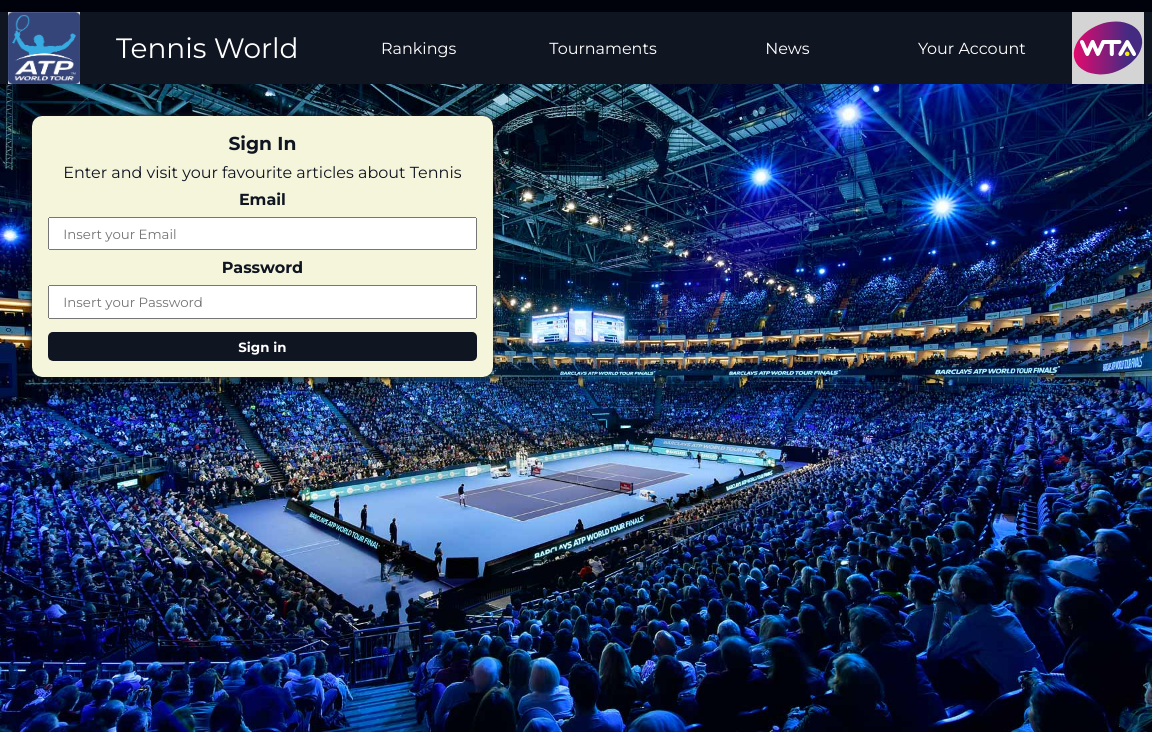
Scenario: Login › Failed login
Step 1. Type "someemail@gmail.com" into the field with placeholder "Insert your Email" → (263, 234), box [48, 217, 477, 250]
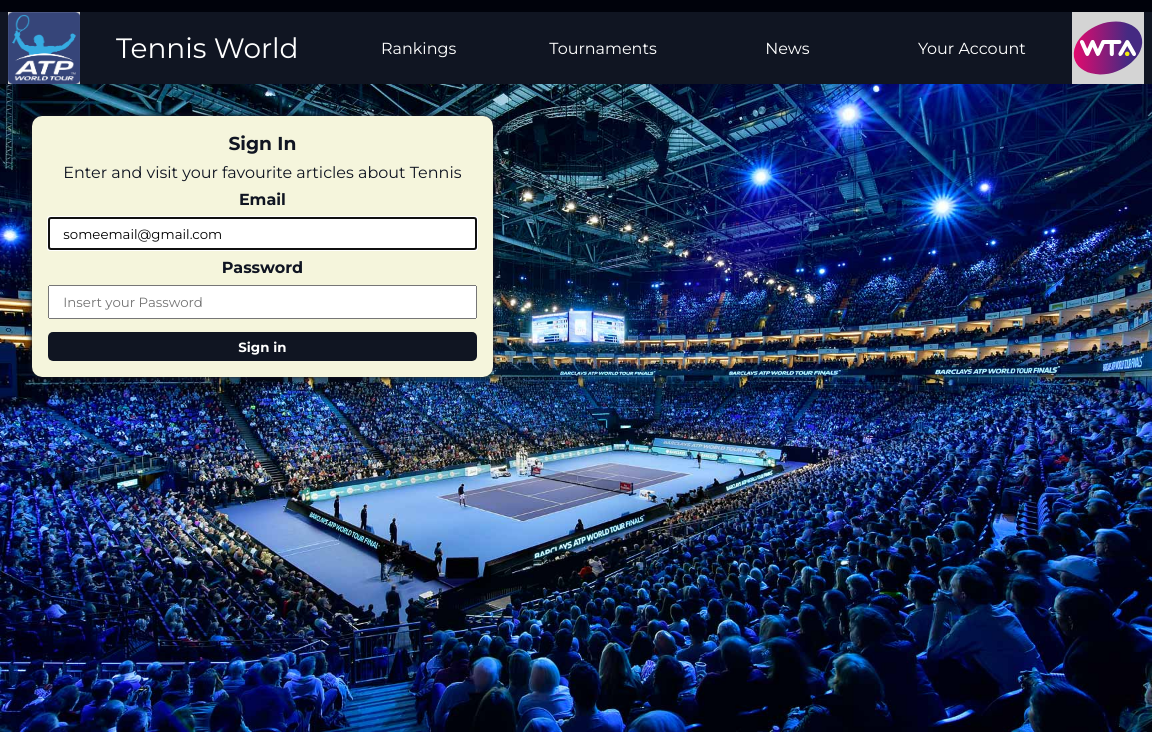
Step 2. Type "password" into the password field with placeholder "Insert your Password" → (263, 302), box [48, 285, 477, 318]
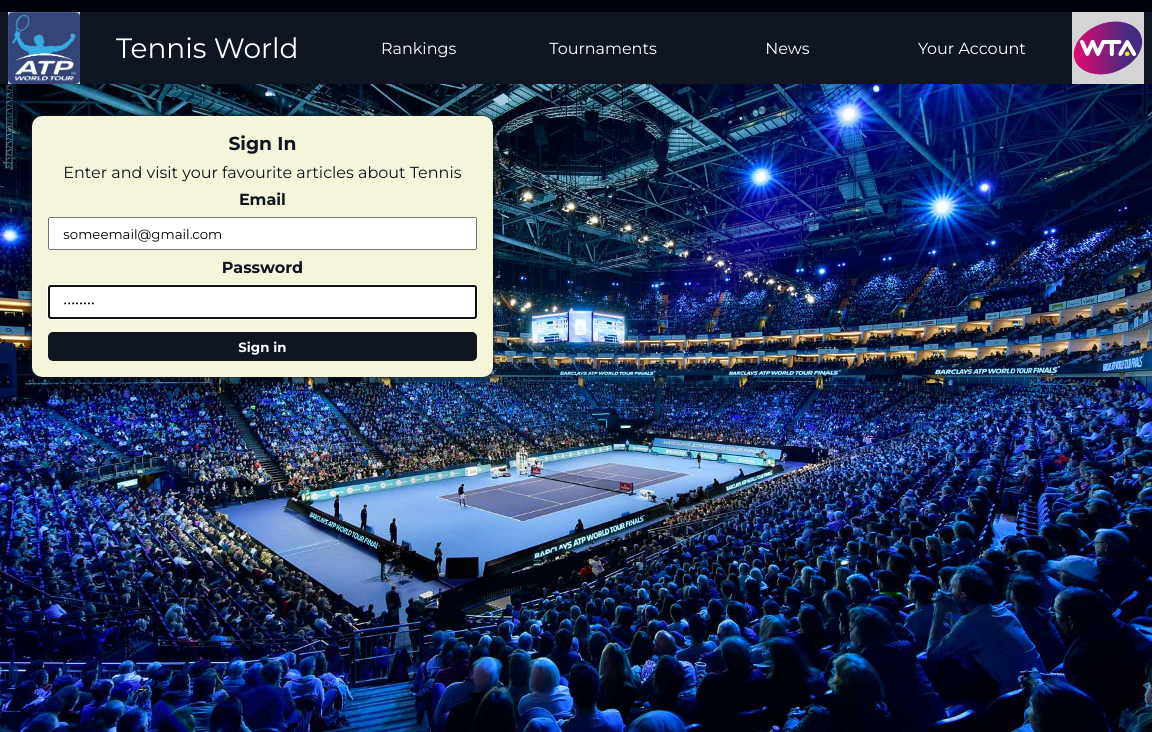
Step 3. Click the button "Sign in" → (263, 347), box [48, 332, 477, 361]
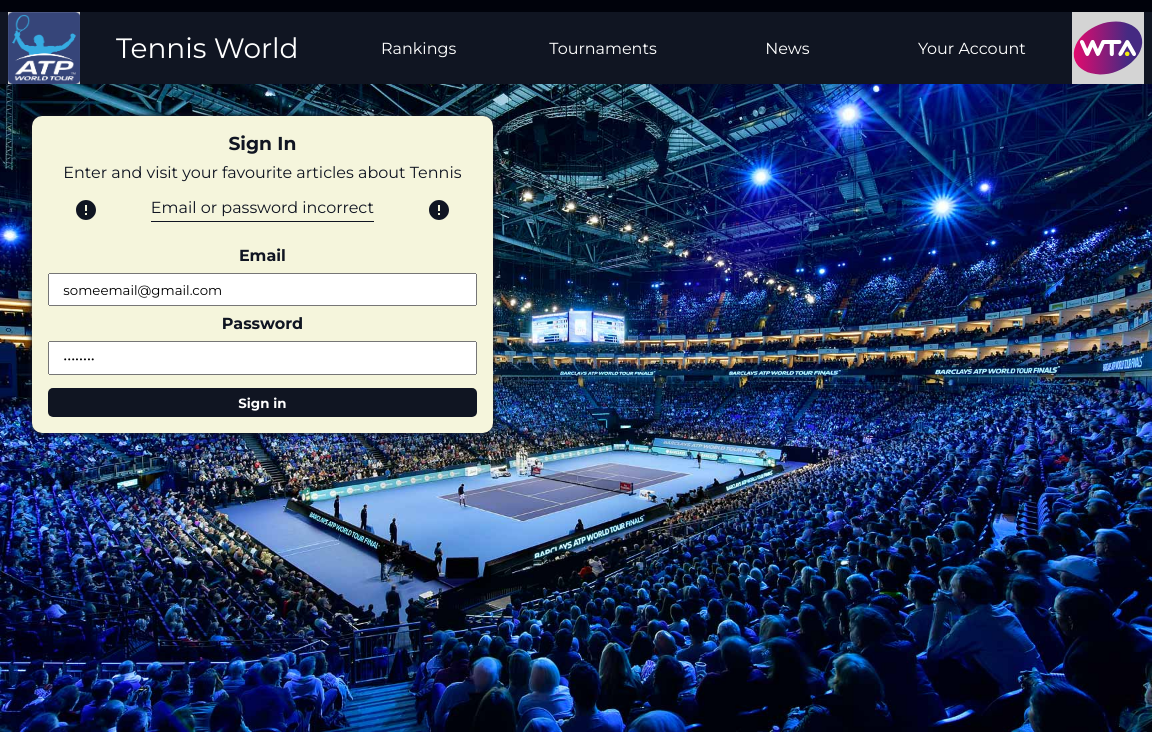
Expected: the text "Email or password incorrect" is shown, [151, 198, 374, 222]
